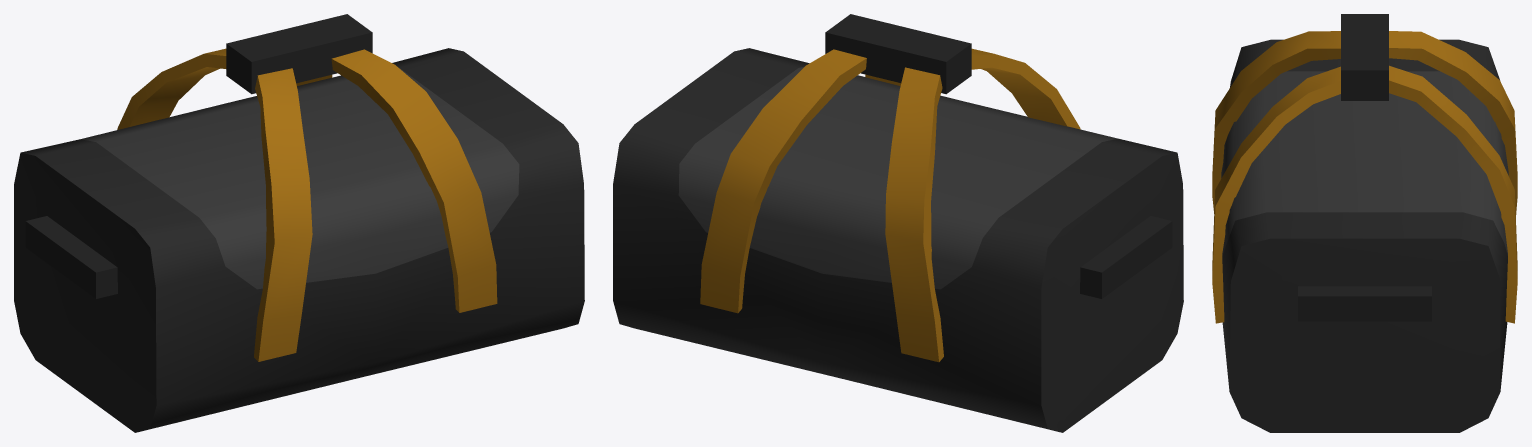
The model's file is bag_sport_01.fbx.
3 renders of one model, left to right at view 1: azimuth 30°, elevation 25°; view 2: azimuth 150°, elevation 25°; view 3: azimuth 270°, elevation 25°, orthographic. The views are drawn at different scales.
Parts seen in each view (by area): view 1: bag_sport_01; view 2: bag_sport_01; view 3: bag_sport_01.
Boxes of the visible parts, <box> form: bag_sport_01: <box>14,14,584,432</box>; bag_sport_01: <box>613,14,1183,432</box>; bag_sport_01: <box>1212,14,1517,432</box>.
Size of the model in its own units: 73.91 by 45.33 by 43.07.
